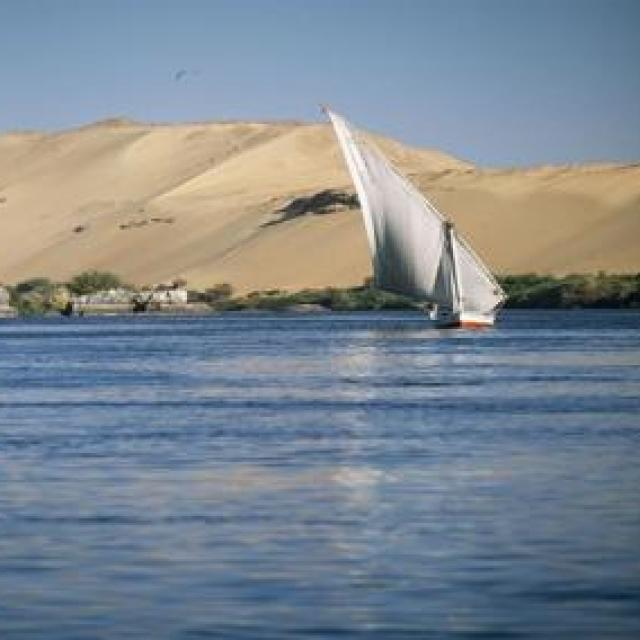sailboat: (317, 99, 515, 331)
